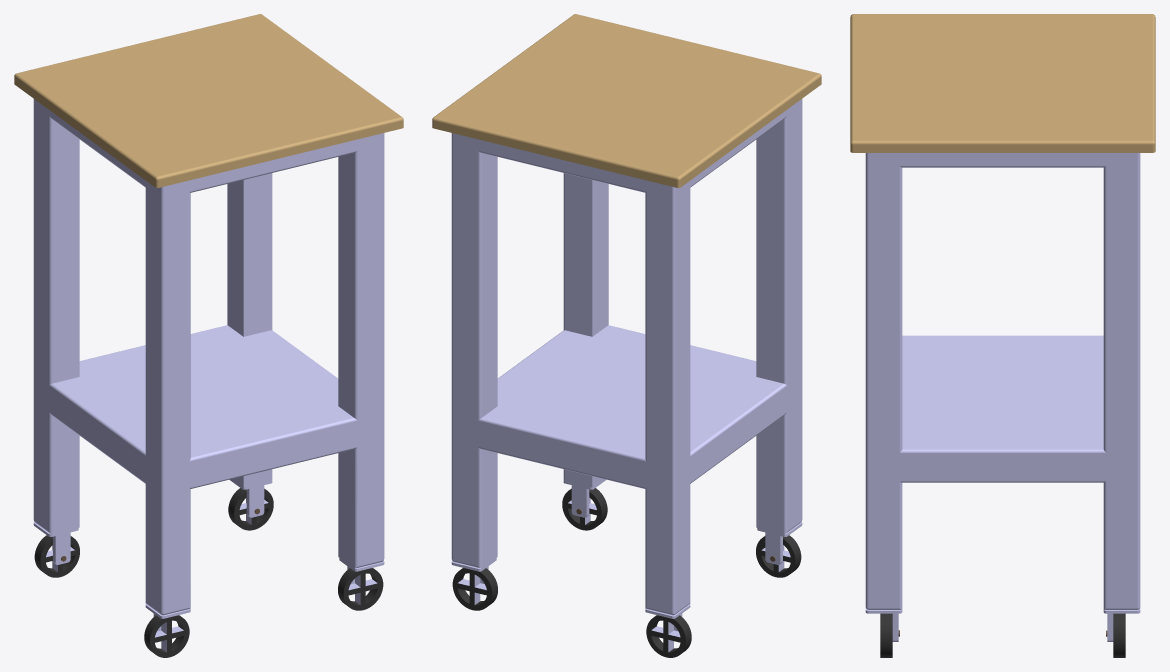
File: Table_ROBOT.gltf
3 views of the same model, side by side, from view 1: azimuth 30°, elevation 25°; view 2: azimuth 150°, elevation 25°; view 3: azimuth 270°, elevation 25° (orthographic). The views are drawn at different scales.
Parts seen in each view (by area): view 1: bureau_PosteROBOT, roue-convoyeur020, roue-convoyeur023, roue-convoyeur022, roue-convoyeur021; view 2: bureau_PosteROBOT, roue-convoyeur022, roue-convoyeur021, roue-convoyeur020, roue-convoyeur023; view 3: bureau_PosteROBOT, roue-convoyeur021, roue-convoyeur023.
Part boxes in pixels (bbox=[...]): bureau_PosteROBOT: bbox=[14, 14, 403, 615]; roue-convoyeur020: bbox=[33, 522, 79, 577]; roue-convoyeur023: bbox=[228, 479, 273, 530]; roue-convoyeur022: bbox=[144, 604, 190, 657]; roue-convoyeur021: bbox=[338, 558, 384, 610]; bureau_PosteROBOT: bbox=[432, 14, 821, 615]; roue-convoyeur022: bbox=[756, 522, 802, 577]; roue-convoyeur021: bbox=[562, 479, 607, 530]; roue-convoyeur020: bbox=[645, 604, 691, 657]; roue-convoyeur023: bbox=[451, 558, 497, 610]; bureau_PosteROBOT: bbox=[850, 14, 1155, 609]; roue-convoyeur021: bbox=[865, 608, 902, 657]; roue-convoyeur023: bbox=[1103, 608, 1140, 657].
Bounding box in the file's own units: 0.5 × 0.955 × 0.5.
